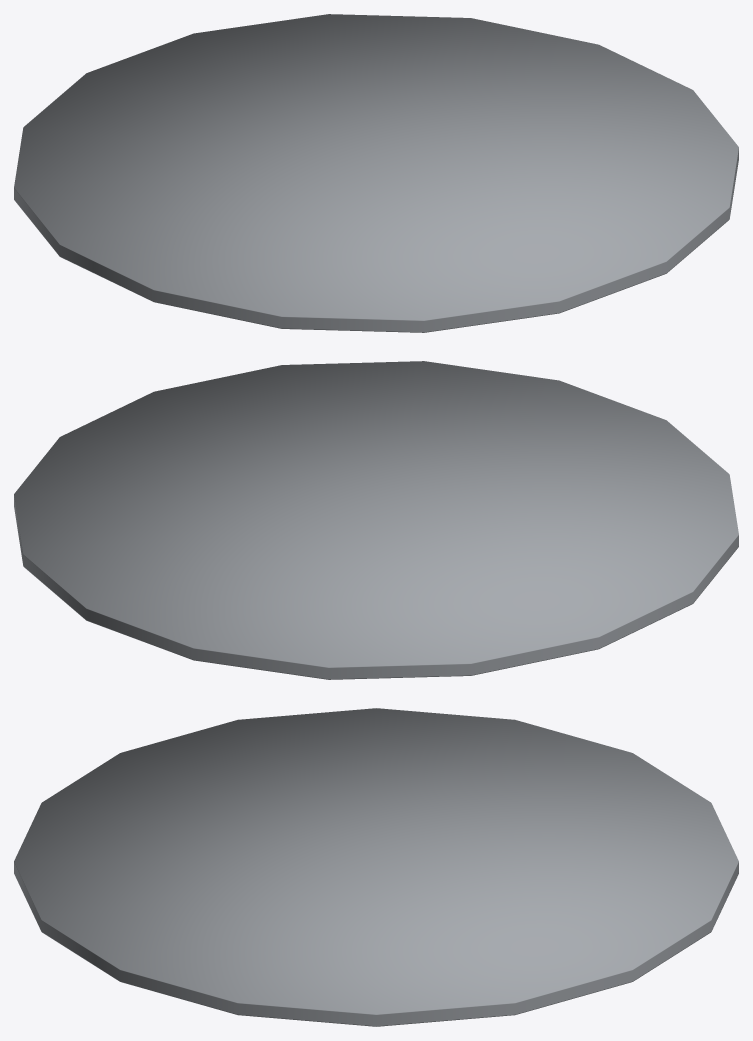
File: CeilingLight003.glb
The picture shows the model from 3 angles, top to bottom: view 1: azimuth 30°, elevation 25°; view 2: azimuth 150°, elevation 25°; view 3: azimuth 270°, elevation 25°; orthographic projection.
Visible parts, largest first — view 1: CeilingLight003.base[lamp]; view 2: CeilingLight003.base[lamp]; view 3: CeilingLight003.base[lamp].
Part boxes in pixels (x1,y1,x2,y2): CeilingLight003.base[lamp]: (14, 14, 738, 332); CeilingLight003.base[lamp]: (14, 361, 738, 679); CeilingLight003.base[lamp]: (14, 708, 738, 1026).
Bounding box in the file's own units: 0.2032 × 0.0038 × 0.2032.
2 materials, 2 textured.
